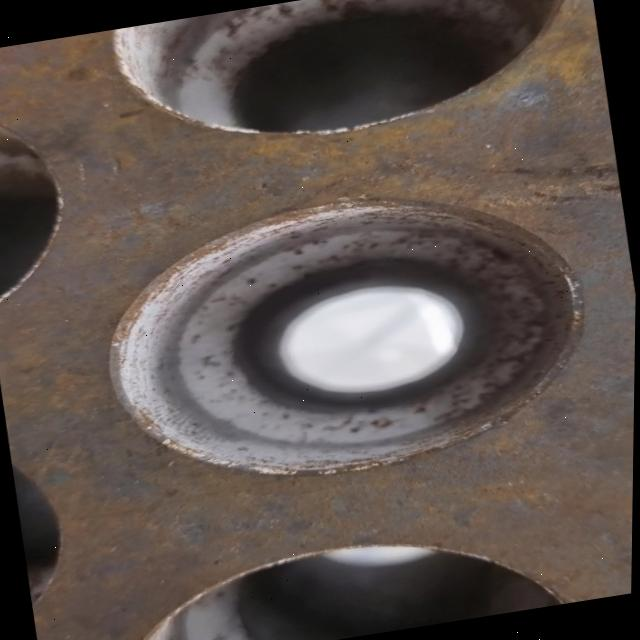Hole: (82, 163, 616, 505), (41, 503, 626, 640), (105, 0, 585, 165)
